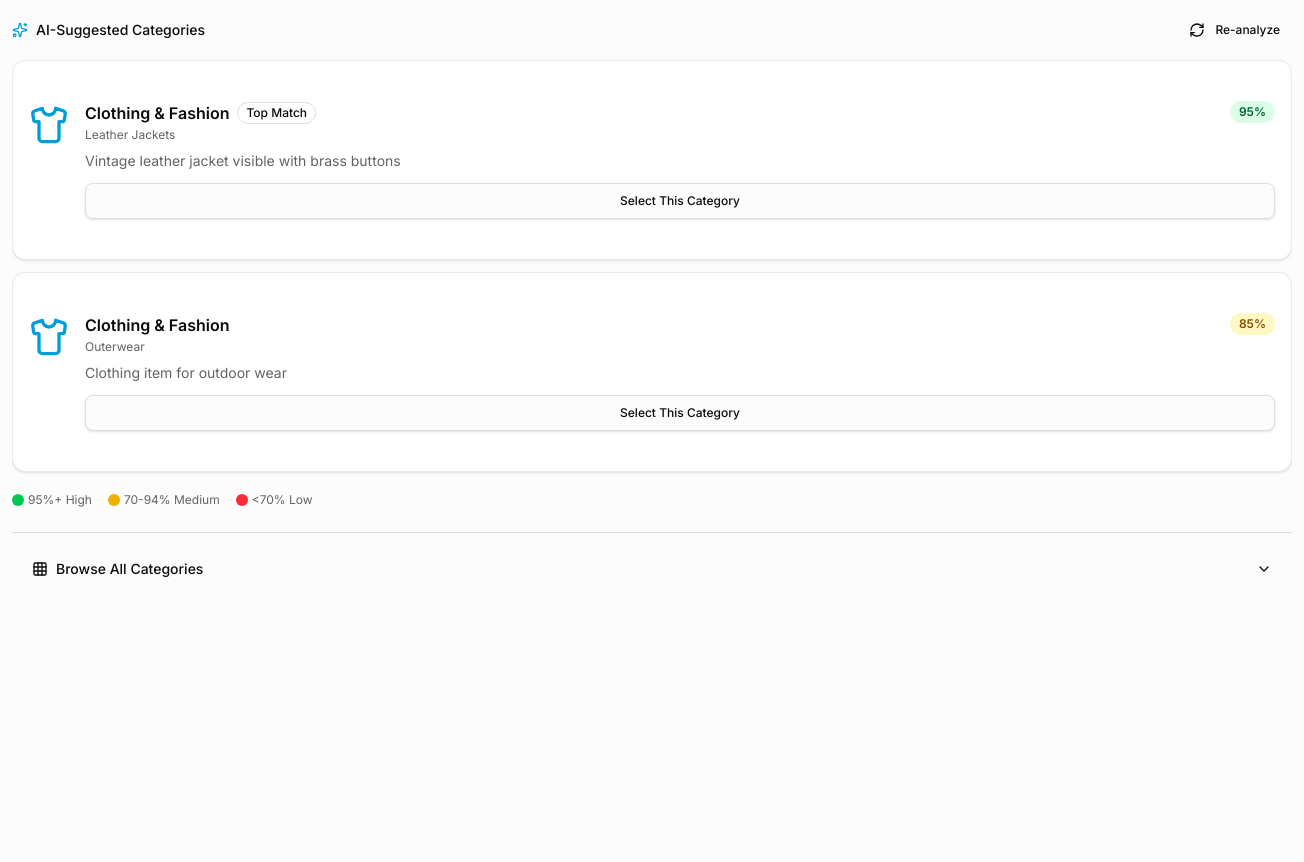
Scenario: AICategoryStep Component › Manual Category Fallback › collapses manual grid when button clicked again
This screenshot has width=1304, height=862.
Expected: the text "Browse All Categories" is shown, x1=32 y1=559 x2=203 y2=579
Click the button "Browse All Categories".
click(130, 568)  # box x1=12 y1=549 x2=1292 y2=589
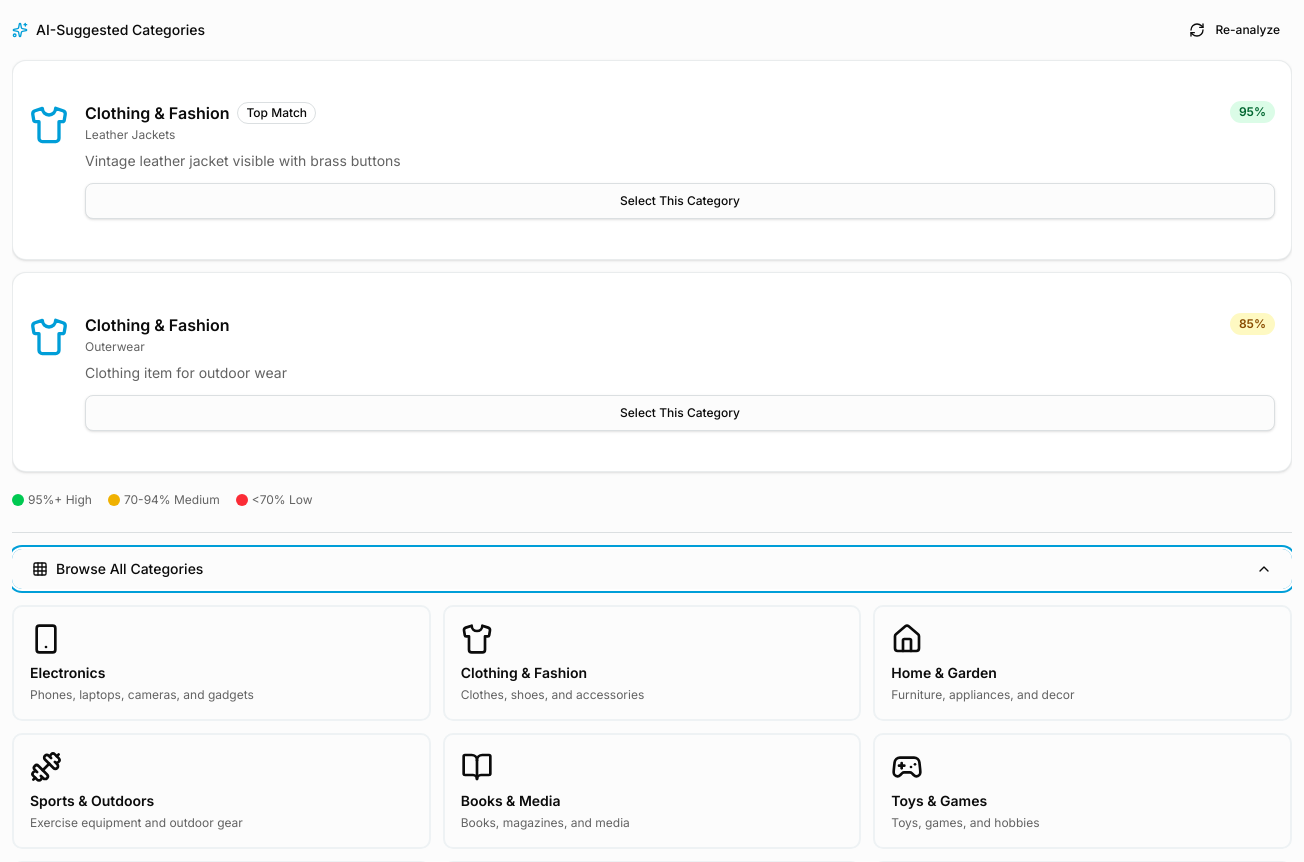
Now the heading "Electronics" is shown, box x1=30 y1=664 x2=105 y2=681
Click the button "Browse All Categories".
click(130, 568)  # box x1=12 y1=549 x2=1292 y2=589
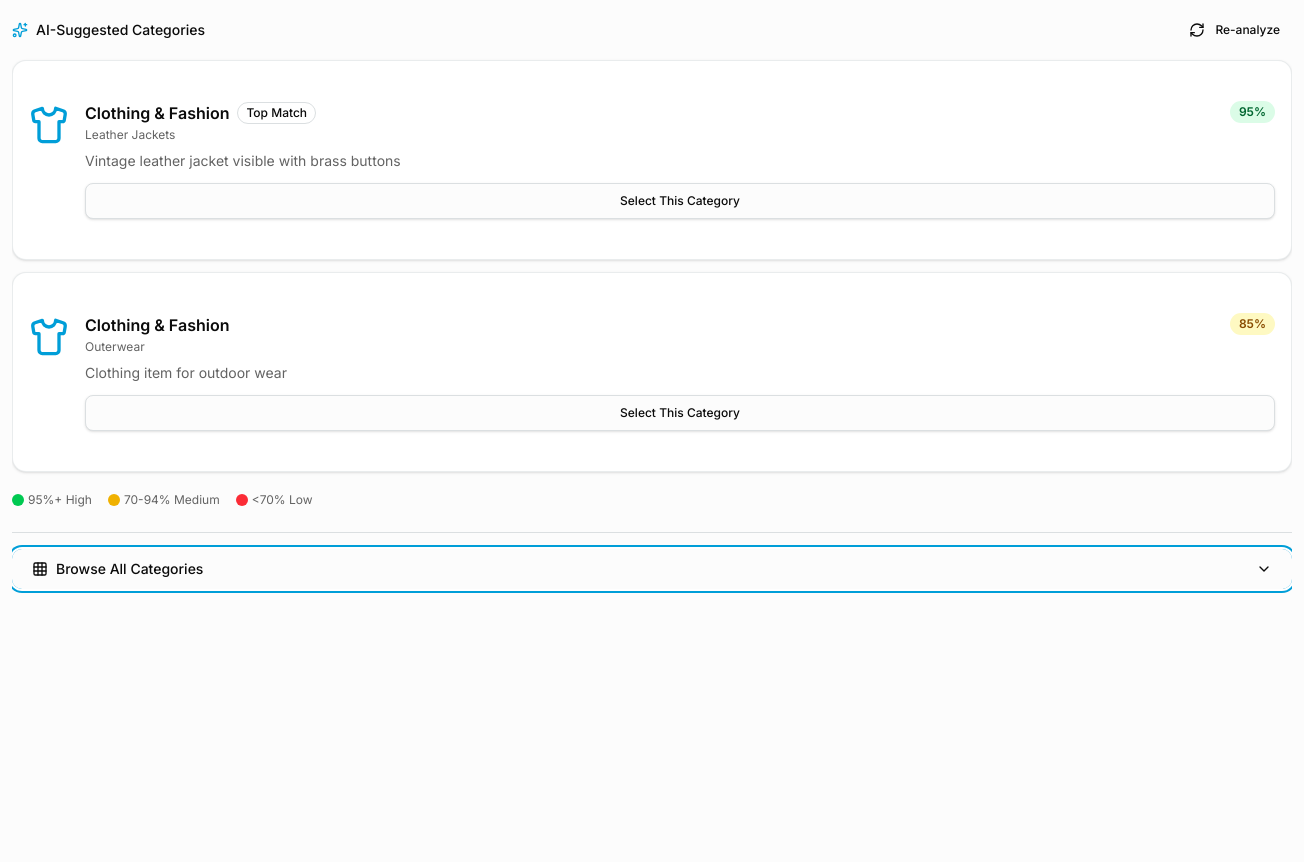
Now the button "Electronics" is gone
